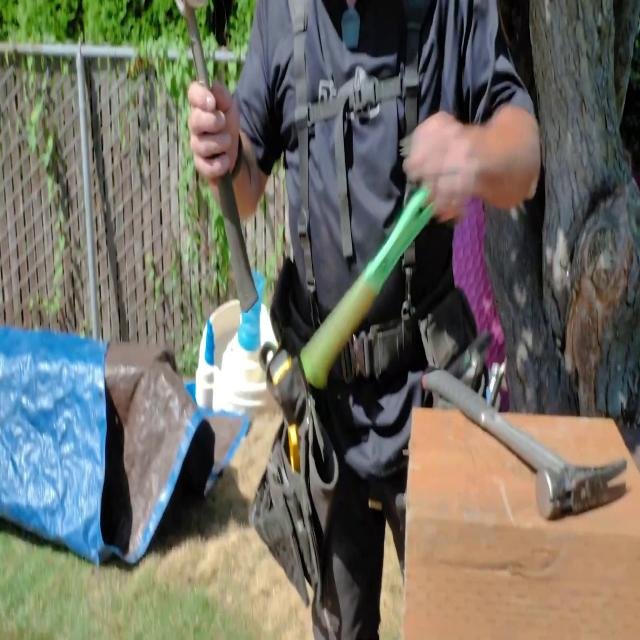hammer: (421, 367, 629, 522)
